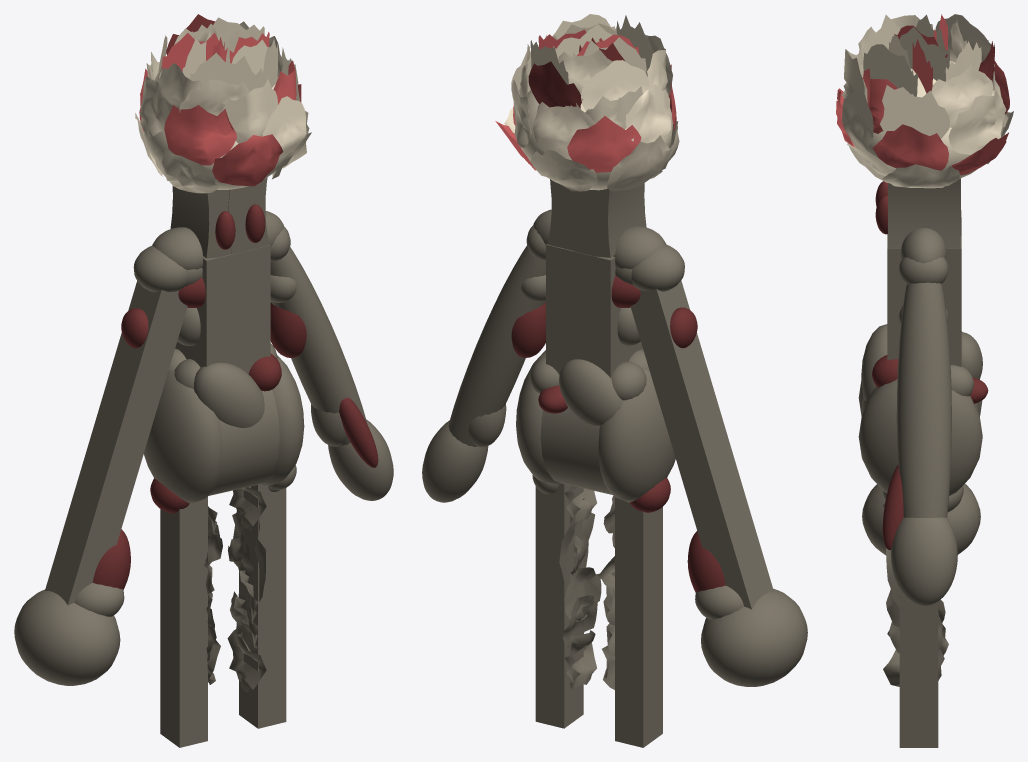
Rendered from Funkel.fbx.
The picture shows the model from 3 angles, left to right: view 1: azimuth 30°, elevation 25°; view 2: azimuth 150°, elevation 25°; view 3: azimuth 270°, elevation 25°; orthographic projection.
Visible parts, largest first — view 1: pasted__pasted__pasted__pasted__group9_pasted__pDisc1, pCube3, group_pasted__pSphere1, pasted__pCube4, pCube1, pCube4, pSphere3, polySurface3, pasted__pasted__pasted__pasted__pasted__pSphere1 (×5), pasted__pasted__pasted__pasted__pSphere1 (×3), pSphere4, polySurface2 (+12 smaller); view 2: pasted__pasted__pasted__pasted__group9_pasted__pDisc1, pCube3, group_pasted__pSphere1, pasted__pCube4, pCube4, pCube1, pSphere3, polySurface3, pasted__pasted__pasted__pasted__pasted__pSphere1 (×5), pasted__pasted__pasted__pasted__pasted__pasted__pSphere1 (×3), pasted__pCube2, polySurface2 (+10 smaller); view 3: pasted__pasted__pasted__pasted__group9_pasted__pDisc1, polySurface3, group_pasted__pSphere1, pCube4, polySurface2, pCube2, pCube1, pSphere3, pasted__pasted__pasted__pasted__pSphere1 (×2), pasted__pasted__pasted__pasted__pasted__pasted__pSphere1 (×2), pasted__pasted__pSphere1, polySurface1 (+6 smaller).
Boxes of the visible parts, box(x1,y1,x2,y2) form: pasted__pasted__pasted__pasted__group9_pasted__pDisc1: box(135, 14, 311, 193); pCube3: box(45, 281, 187, 605); group_pasted__pSphere1: box(144, 355, 304, 503); pasted__pCube4: box(160, 496, 207, 747); pCube1: box(175, 244, 270, 373); pCube4: box(239, 484, 286, 728); pSphere3: box(14, 589, 120, 685); polySurface3: box(270, 247, 367, 445); pasted__pasted__pasted__pasted__pasted__pSphere1 (×5): box(93, 307, 347, 589); pasted__pasted__pasted__pasted__pSphere1 (×3): box(74, 302, 306, 616); pSphere4: box(193, 362, 264, 427); polySurface2: box(328, 419, 393, 500); pasted__pasted__pasted__pasted__group9_pasted__pDisc1: box(495, 14, 679, 191); pCube3: box(630, 280, 773, 609); group_pasted__pSphere1: box(516, 350, 675, 502); pasted__pCube4: box(615, 497, 662, 747); pCube4: box(535, 483, 583, 728); pCube1: box(546, 244, 642, 377); pSphere3: box(701, 588, 807, 686); polySurface3: box(448, 245, 545, 446); pasted__pasted__pasted__pasted__pasted__pSphere1 (×5): box(468, 307, 725, 592); pasted__pasted__pasted__pasted__pasted__pasted__pSphere1 (×3): box(530, 356, 646, 425); pasted__pCube2: box(570, 183, 646, 257); polySurface2: box(422, 420, 488, 502); pasted__pasted__pasted__pasted__group9_pasted__pDisc1: box(836, 14, 1013, 188); polySurface3: box(896, 282, 951, 517); group_pasted__pSphere1: box(858, 379, 982, 496); pCube4: box(899, 590, 938, 747); polySurface2: box(890, 517, 957, 605); pCube2: box(888, 178, 960, 248); pCube1: box(887, 217, 961, 367); pSphere3: box(862, 484, 980, 555); pasted__pasted__pasted__pasted__pSphere1 (×2): box(872, 257, 948, 387); pasted__pasted__pasted__pasted__pasted__pasted__pSphere1 (×2): box(950, 332, 982, 396); pasted__pasted__pSphere1: box(901, 228, 946, 263); polySurface1: box(882, 465, 903, 549).
Size of the model in its own units: 5.73 by 10.35 by 2.39.
